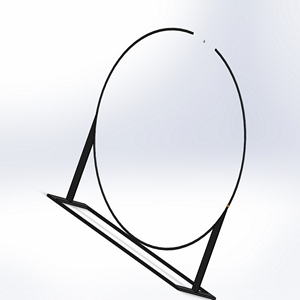circle: (46, 25, 248, 300)
